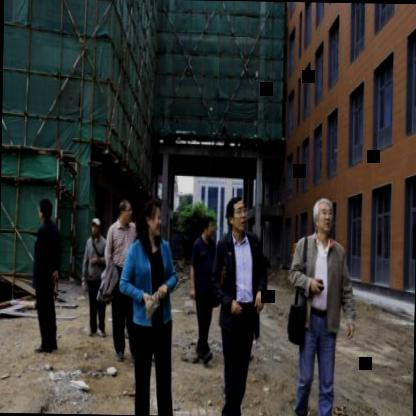head: (140, 193, 165, 245), (310, 194, 336, 242), (224, 194, 248, 236), (115, 194, 134, 228), (35, 192, 53, 226), (201, 213, 217, 240), (89, 214, 100, 238)
